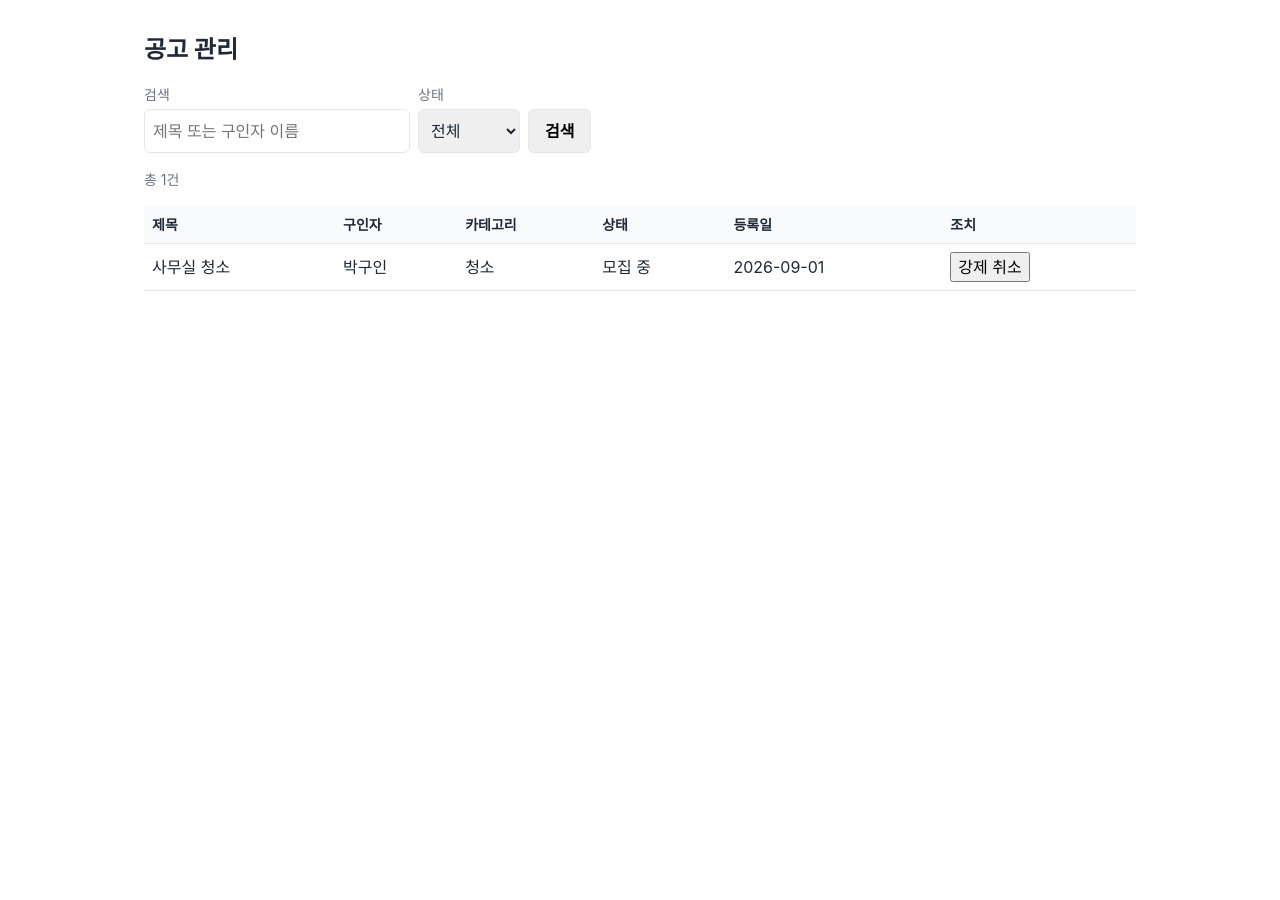
Test: AdminJobPostList › should keep the confirm button disabled until a reason is typed
Click the button "강제 취소" at (990, 267), box top-left (950, 252), bottom-right (1030, 282)
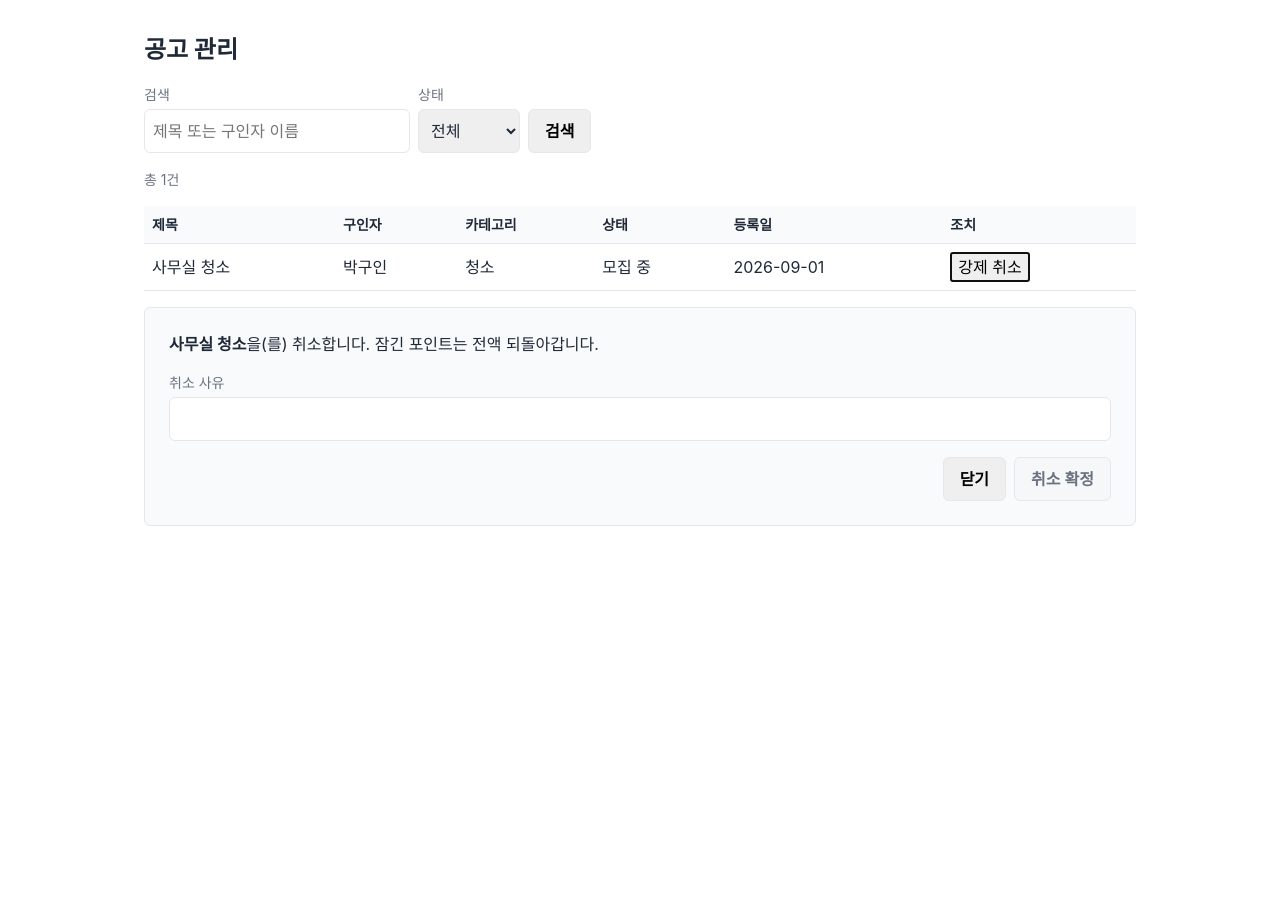
Expected: the button "취소 확정" is disabled, top-left (1014, 457), bottom-right (1111, 501)
Type "허위 공고" into the field labelled "취소 사유" at (640, 419), box top-left (169, 397), bottom-right (1111, 441)
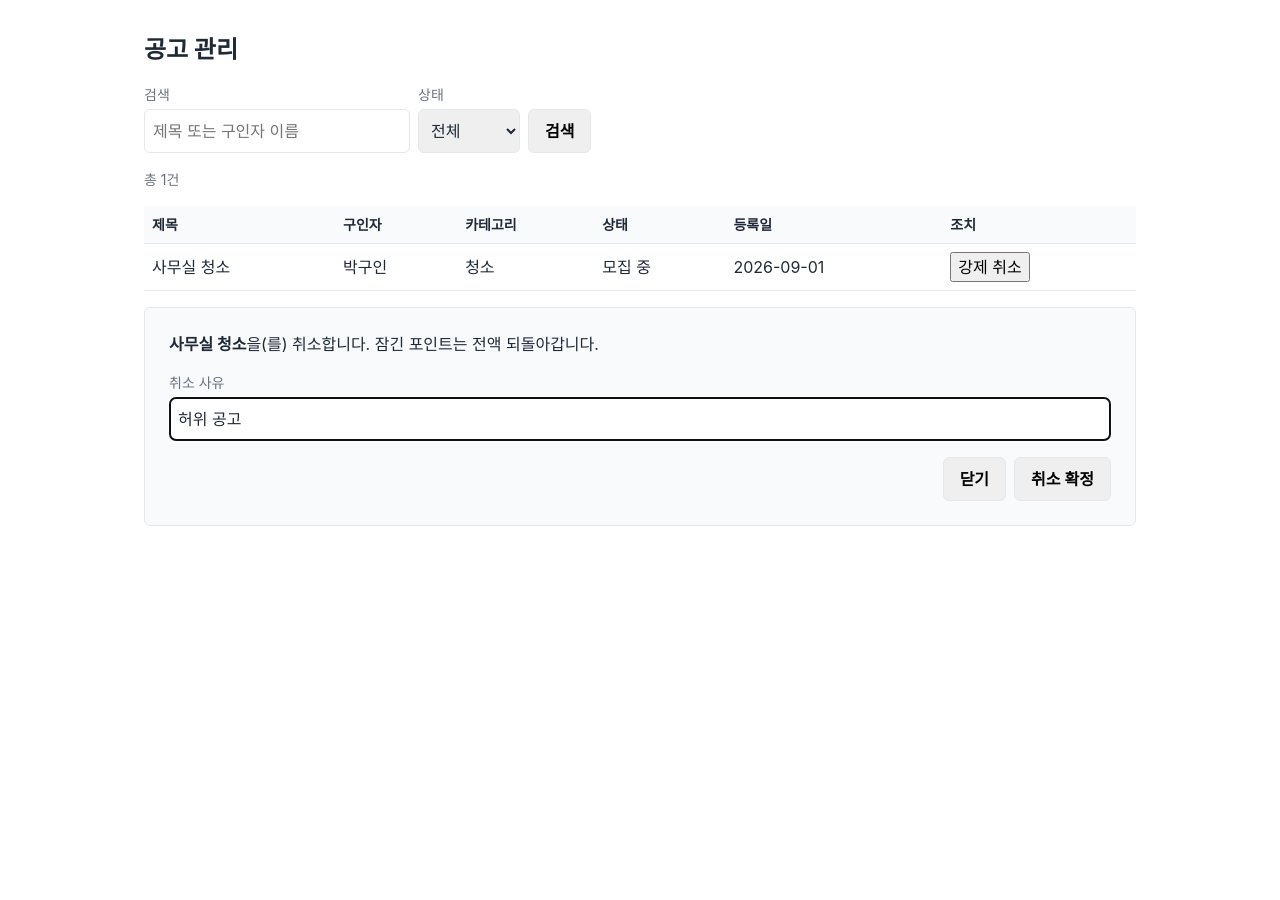
Expected: the button "취소 확정" is enabled, top-left (1014, 457), bottom-right (1111, 501)
